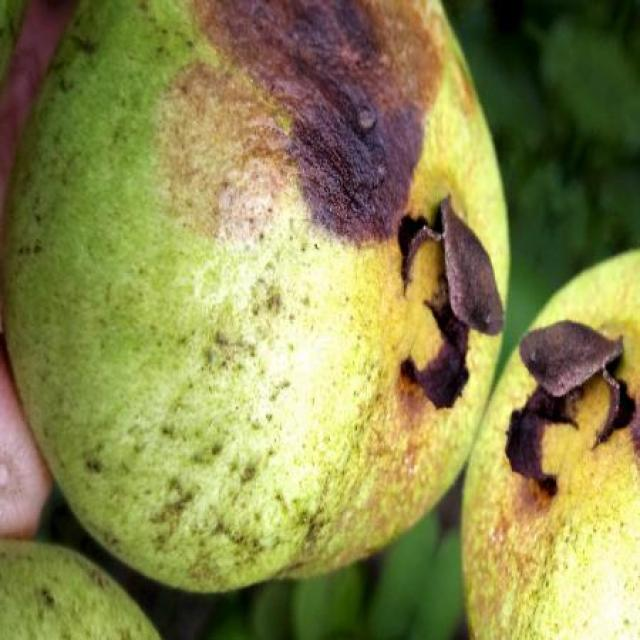Styler and Root: (4, 0, 508, 591), (462, 251, 640, 640)
